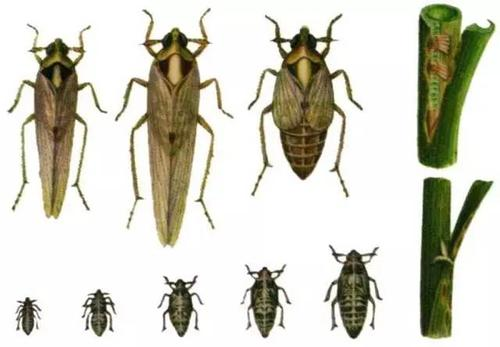Delphacidae: (114, 8, 234, 250), (247, 13, 364, 199), (7, 23, 108, 220), (323, 244, 383, 341), (240, 263, 291, 338), (157, 275, 204, 338), (81, 289, 116, 336), (15, 297, 41, 336)
